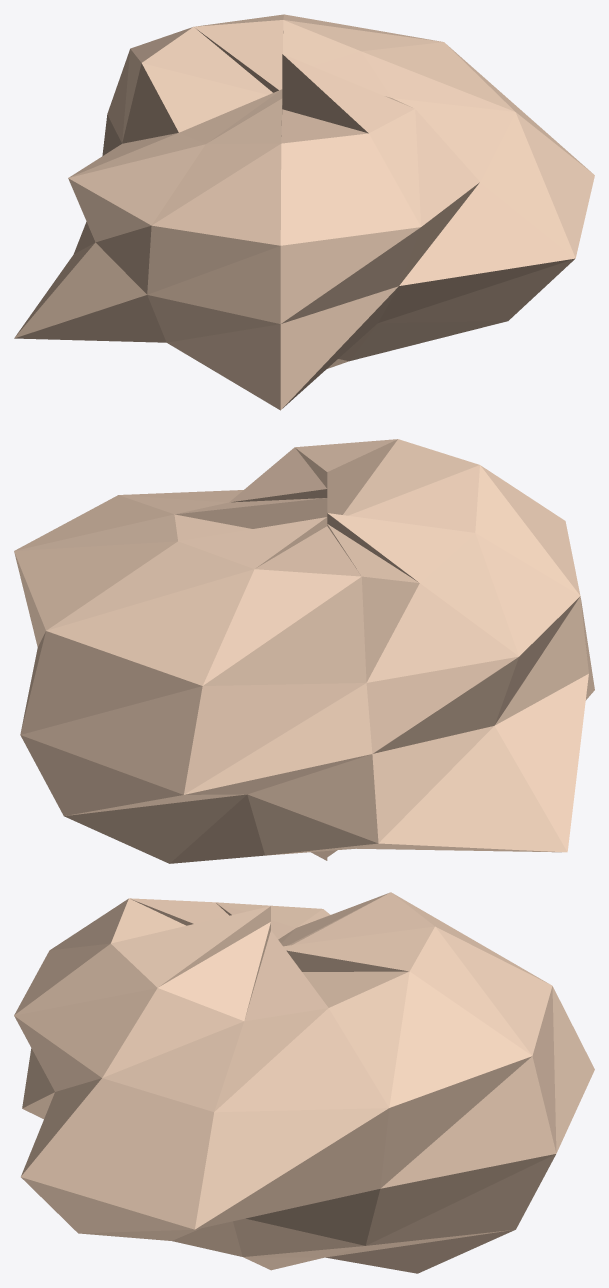
File: rock_099.obj
3 renders of one model, top to bottom at view 1: azimuth 30°, elevation 25°; view 2: azimuth 150°, elevation 25°; view 3: azimuth 270°, elevation 25°, orthographic. The views are drawn at different scales.
Bounding box in the file's own units: 0.9537 × 0.5946 × 0.8592.
